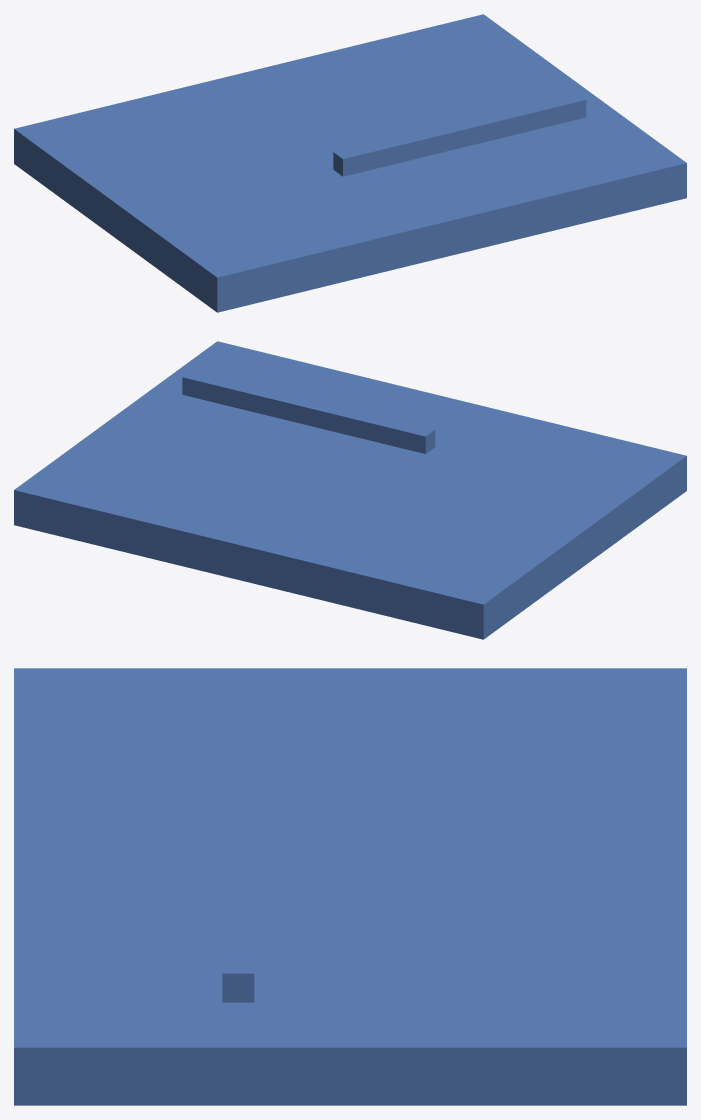
The model's file is carpeta_dnu.glb.
The picture shows the model from 3 angles, top to bottom: view 1: azimuth 30°, elevation 25°; view 2: azimuth 150°, elevation 25°; view 3: azimuth 270°, elevation 25°; orthographic projection. The views are drawn at different scales.
Visible parts, largest first — view 1: carpeta_dnu; view 2: carpeta_dnu; view 3: carpeta_dnu.
Boxes of the visible parts, x1=… form: carpeta_dnu: x1=14, y1=14, x2=686, y2=312; carpeta_dnu: x1=14, y1=341, x2=686, y2=639; carpeta_dnu: x1=14, y1=668, x2=686, y2=1105.
Bounding box in the file's own units: 1.12 × 0.14 × 0.84.
